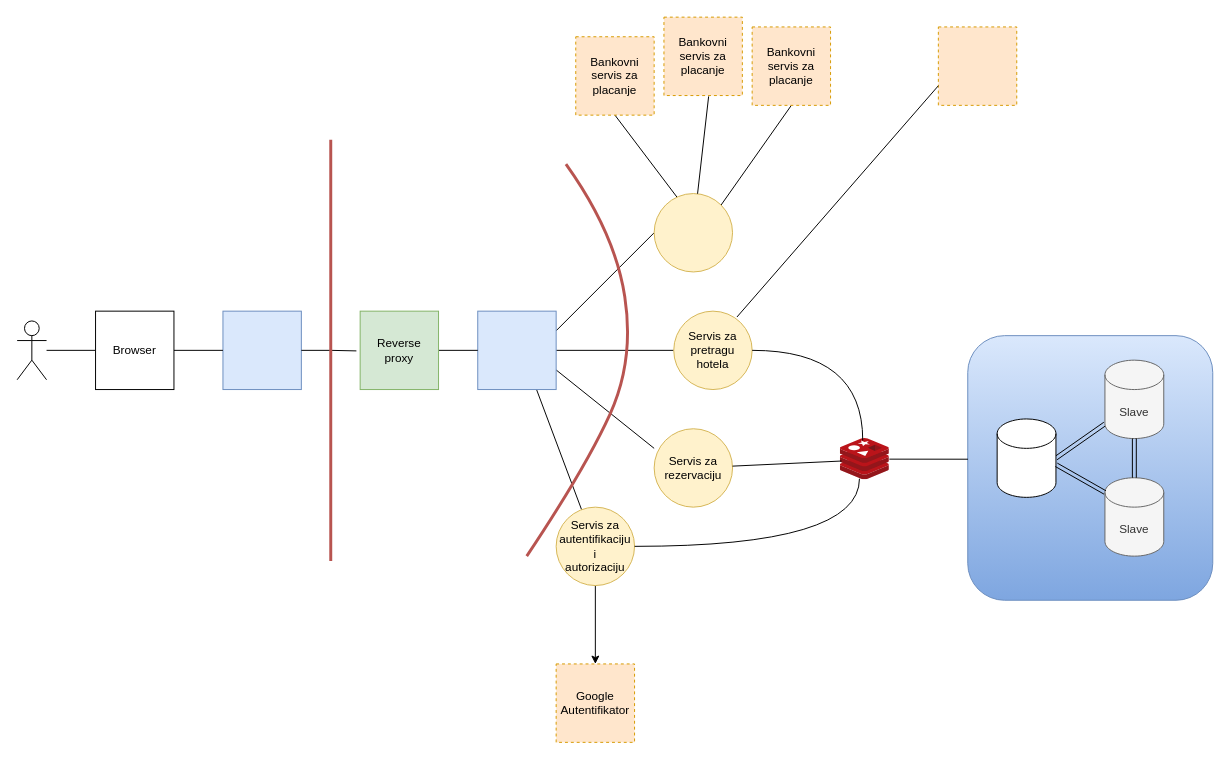
Image size: 1230x760. Some labels were removed from this diagram. Here are the shapes that lost their labels. From the top down, the centre of each, then its label:
point (977, 65): Google Maps
point (693, 232): Servis za placanje
point (261, 350): Web Server
point (516, 350): App Server
point (1026, 457): Master
